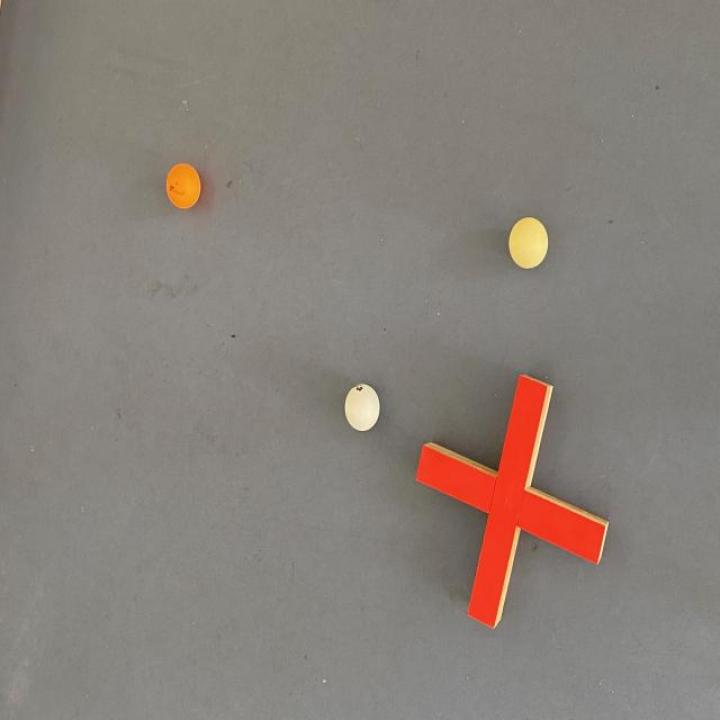orange: (166, 163, 202, 210)
white: (508, 217, 548, 270), (344, 383, 380, 431)
